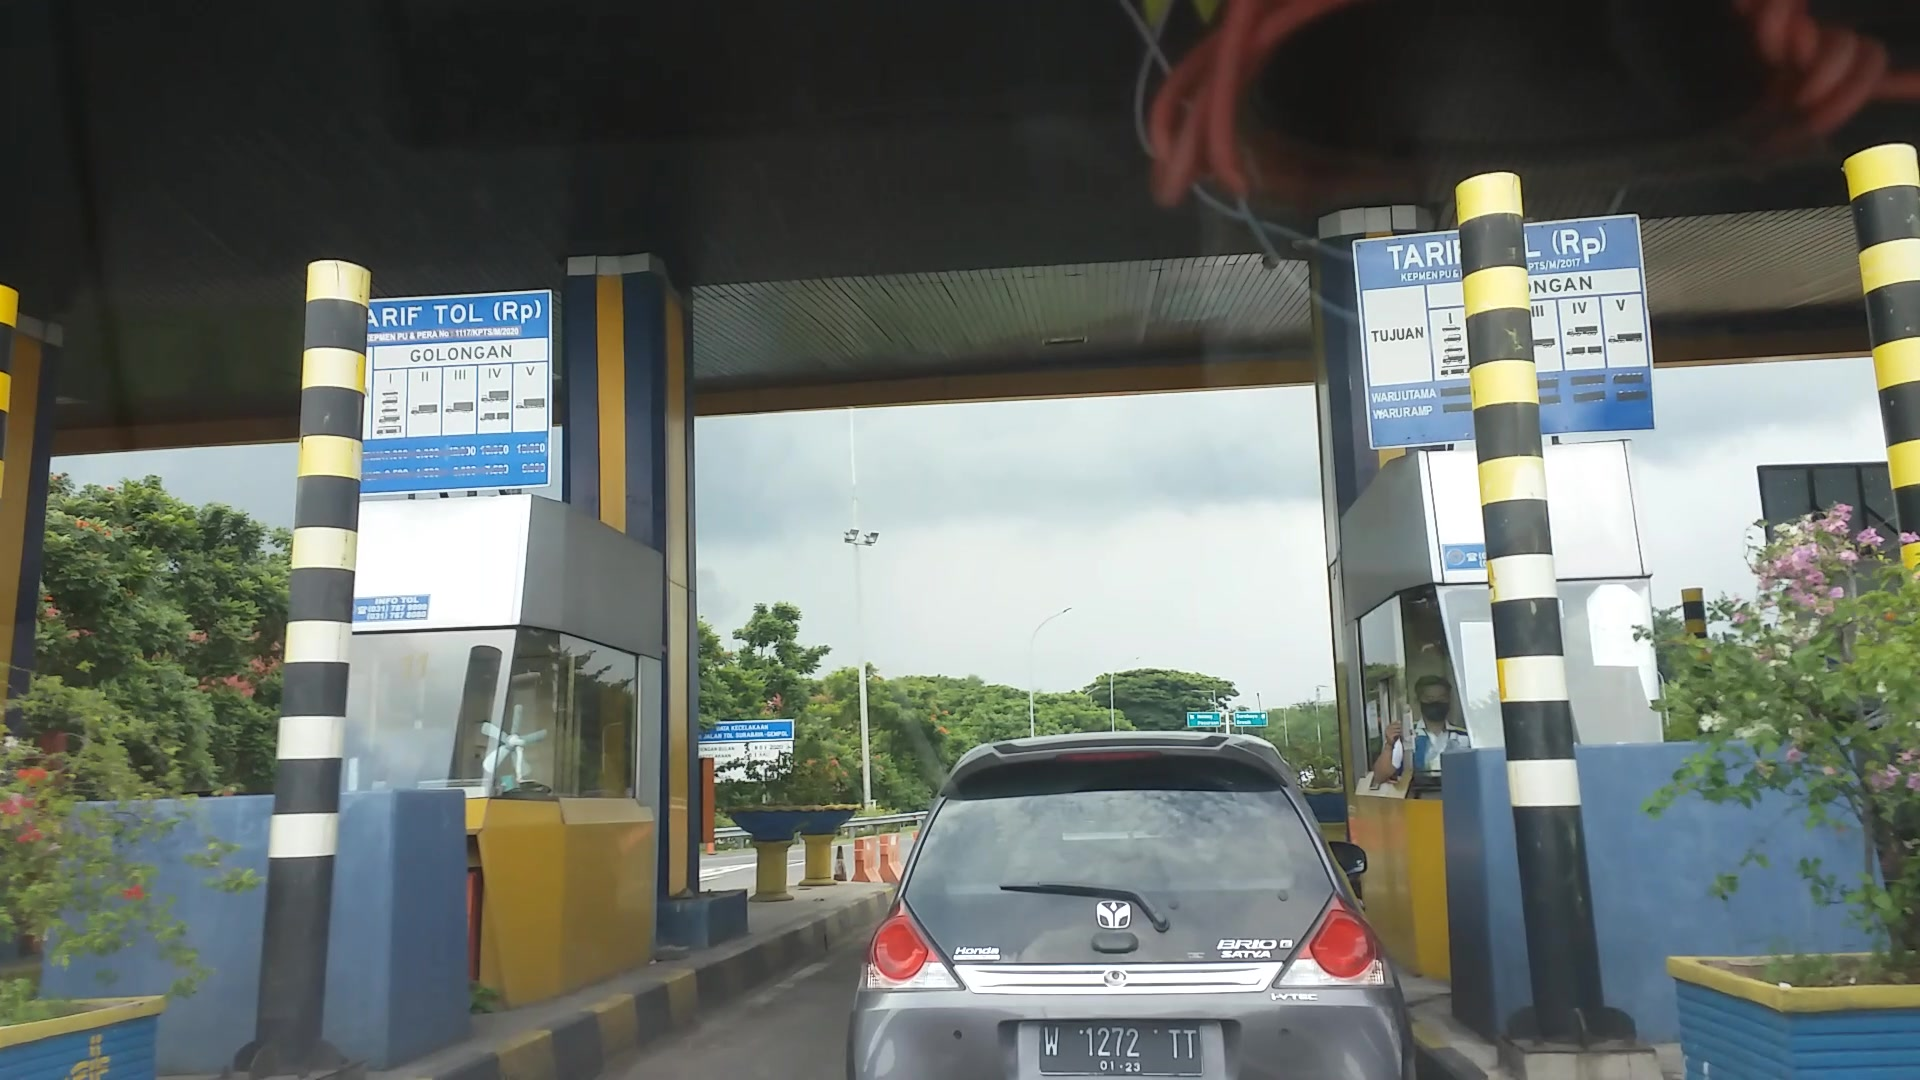plate_positive: (1039, 1021, 1204, 1076)
